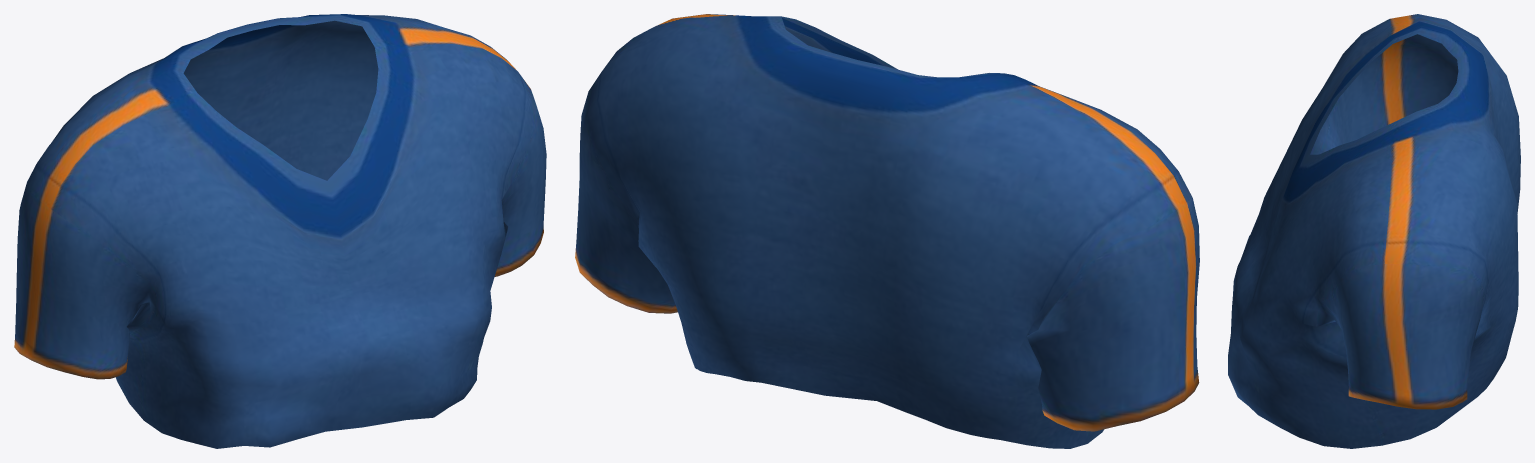
Rendered from top_sport_crop.gltf.
The picture shows the model from 3 angles, left to right: view 1: azimuth 30°, elevation 25°; view 2: azimuth 150°, elevation 25°; view 3: azimuth 270°, elevation 25°; orthographic projection. The views are drawn at different scales.
Parts seen in each view (by area): view 1: top_sport_crop; view 2: top_sport_crop; view 3: top_sport_crop.
Part boxes in pixels (x1,y1,x2,y2): top_sport_crop: [14, 14, 546, 448]; top_sport_crop: [575, 14, 1199, 448]; top_sport_crop: [1228, 14, 1520, 448].
Bounding box in the file's own units: 0.4602 × 0.2841 × 0.2429.
Materials: 1 (1 with a texture image).
